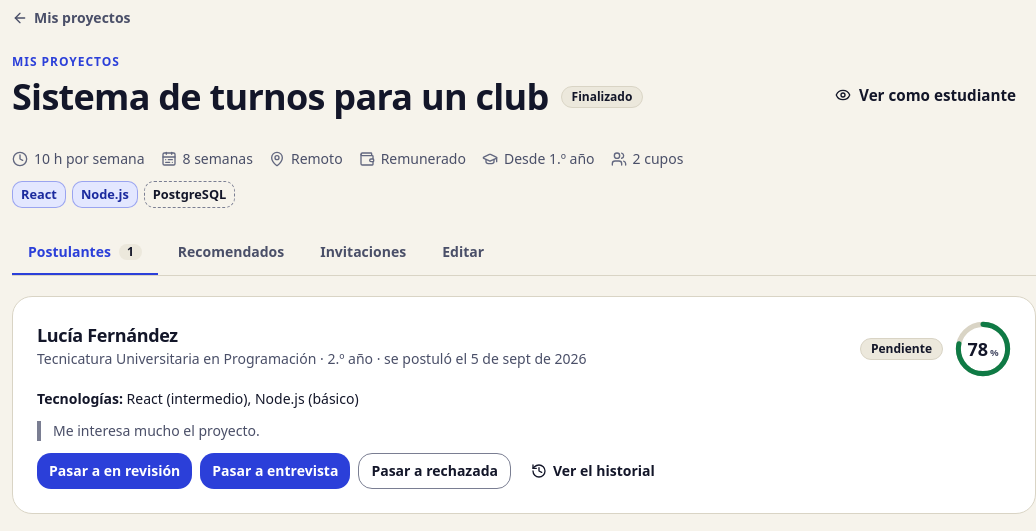
Test case: GestionProyectoPage › un proyecto finalizado no ofrece acciones ni edición
Click the tab "Editar".
click(463, 254)  # box x1=426 y1=232 x2=500 y2=276
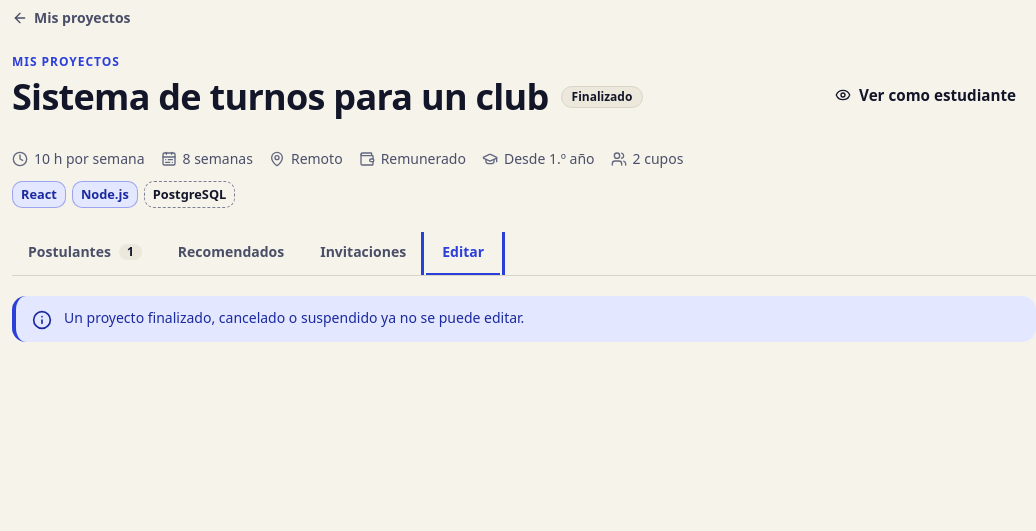
Expected: the text "ya no se puede editar" is shown, x1=64 y1=308 x2=524 y2=327
